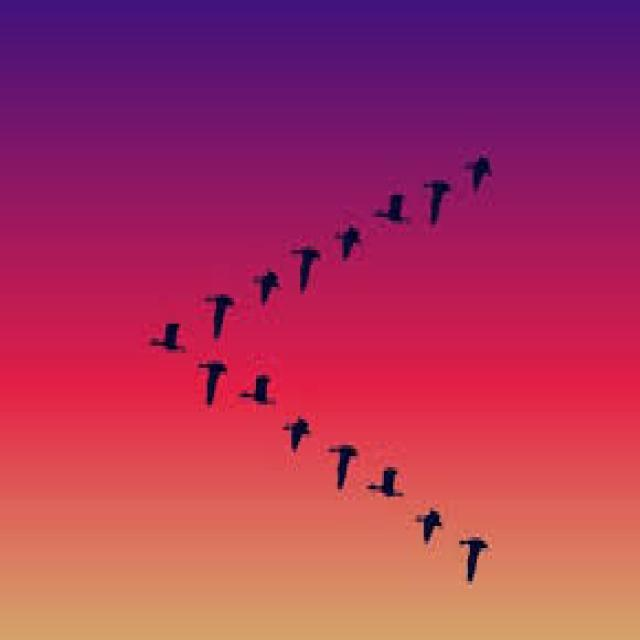bird: (182, 274, 253, 344), (237, 254, 301, 328), (458, 140, 506, 220), (193, 353, 244, 423), (324, 425, 366, 502), (137, 307, 195, 362), (414, 160, 462, 226), (286, 238, 334, 304), (360, 454, 410, 517), (407, 478, 451, 548), (244, 350, 286, 422), (328, 213, 374, 276), (369, 180, 416, 239), (457, 526, 499, 588), (277, 406, 317, 451)
